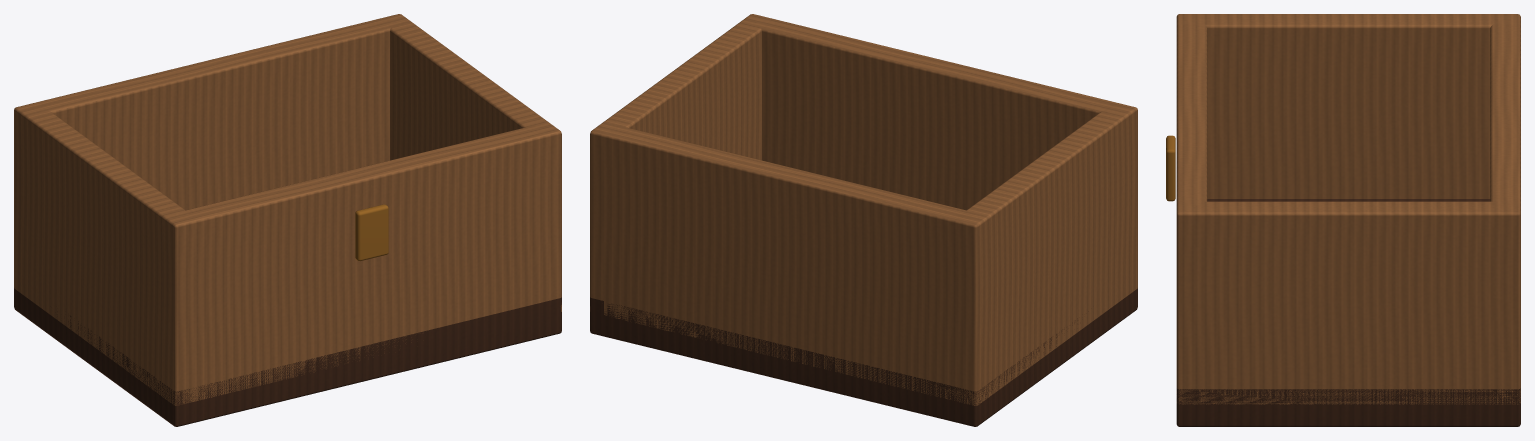
The model's file is storage.glb.
3 renders of one model, left to right at view 1: azimuth 30°, elevation 25°; view 2: azimuth 150°, elevation 25°; view 3: azimuth 270°, elevation 25°, orthographic. The views are drawn at different scales.
Parts seen in each view (by area): view 1: V2_storage_oak, V2_storage_walnut, V2_storage_brass; view 2: V2_storage_oak, V2_storage_walnut; view 3: V2_storage_oak, V2_storage_walnut, V2_storage_brass.
Part boxes in pixels (x1,y1,x2,y2): V2_storage_oak: (14, 14, 561, 405); V2_storage_walnut: (14, 288, 561, 426); V2_storage_brass: (355, 204, 388, 261); V2_storage_oak: (590, 14, 1137, 405); V2_storage_walnut: (590, 288, 1137, 426); V2_storage_oak: (1176, 14, 1520, 404); V2_storage_walnut: (1176, 199, 1520, 426); V2_storage_brass: (1166, 135, 1175, 201).
Size of the model in its own units: 1.24 by 0.67 by 0.9275.
Materials: 4 (2 with a texture image).
